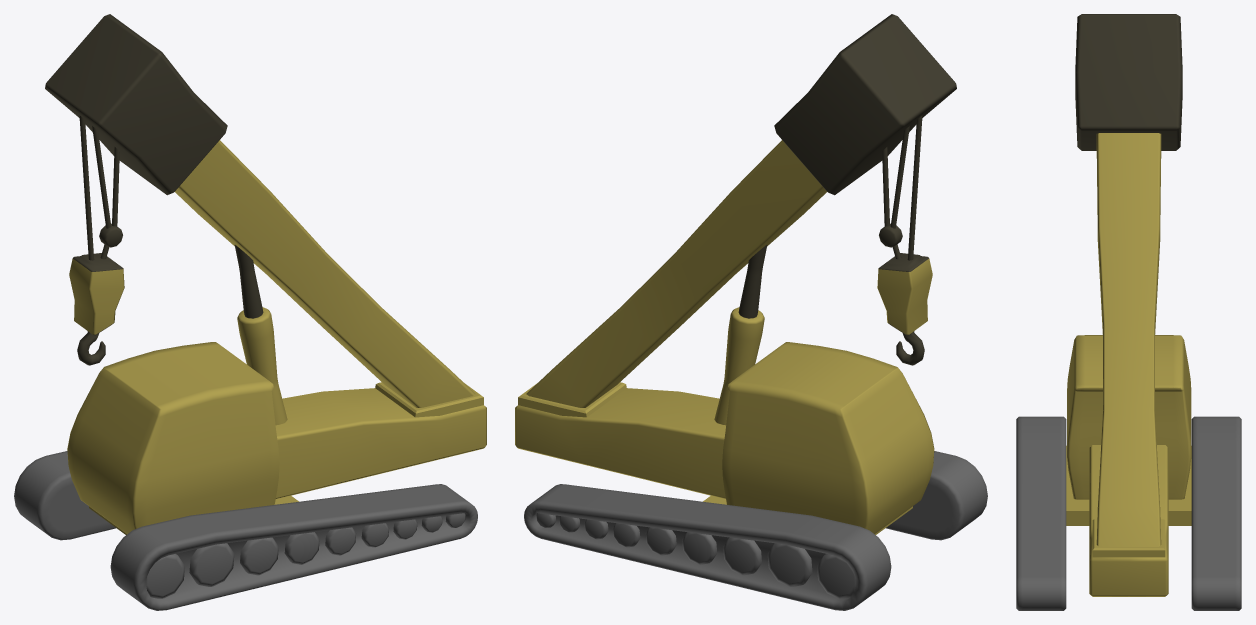
The model's file is SM_crane.fbx.
3 views of the same model, side by side, from view 1: azimuth 30°, elevation 25°; view 2: azimuth 150°, elevation 25°; view 3: azimuth 270°, elevation 25° (orthographic). The views are drawn at different scales.
Parts seen in each view (by area): view 1: SM_crane; view 2: SM_crane; view 3: SM_crane.
Boxes of the visible parts, left/top/right/bottom form: SM_crane: left=14, top=14, right=486, bottom=610; SM_crane: left=515, top=14, right=987, bottom=610; SM_crane: left=1016, top=14, right=1241, bottom=610.
Size of the model in its own units: 826 by 1048 by 448.
